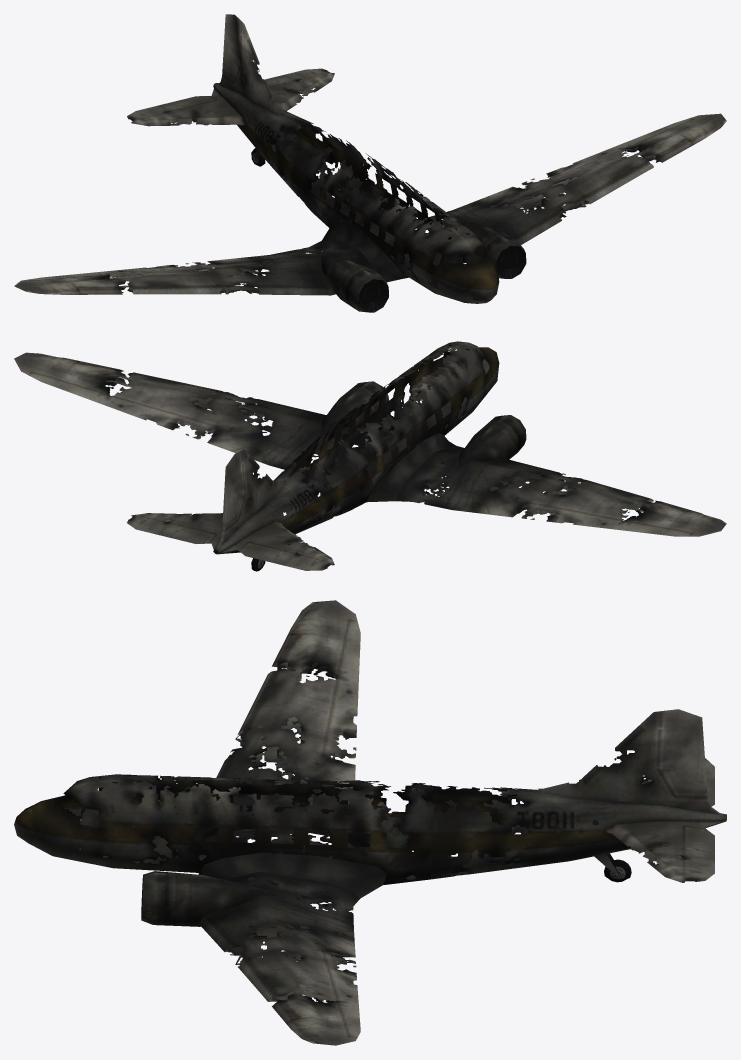
The model's file is SDC3X.glb.
3 renders of one model, top to bottom at view 1: azimuth 30°, elevation 25°; view 2: azimuth 150°, elevation 25°; view 3: azimuth 270°, elevation 25°, orthographic. The views are drawn at different scales.
Parts seen in each view (by area): view 1: _SDC3X; view 2: _SDC3X; view 3: _SDC3X.
Boxes of the visible parts, x1=… form: _SDC3X: x1=14, y1=14, x2=726, y2=312; _SDC3X: x1=14, y1=341, x2=726, y2=571; _SDC3X: x1=14, y1=600, x2=726, y2=1045.
Size of the model in its own units: 29.33 by 5.32 by 19.85.
Materials: 2 (2 with a texture image).
